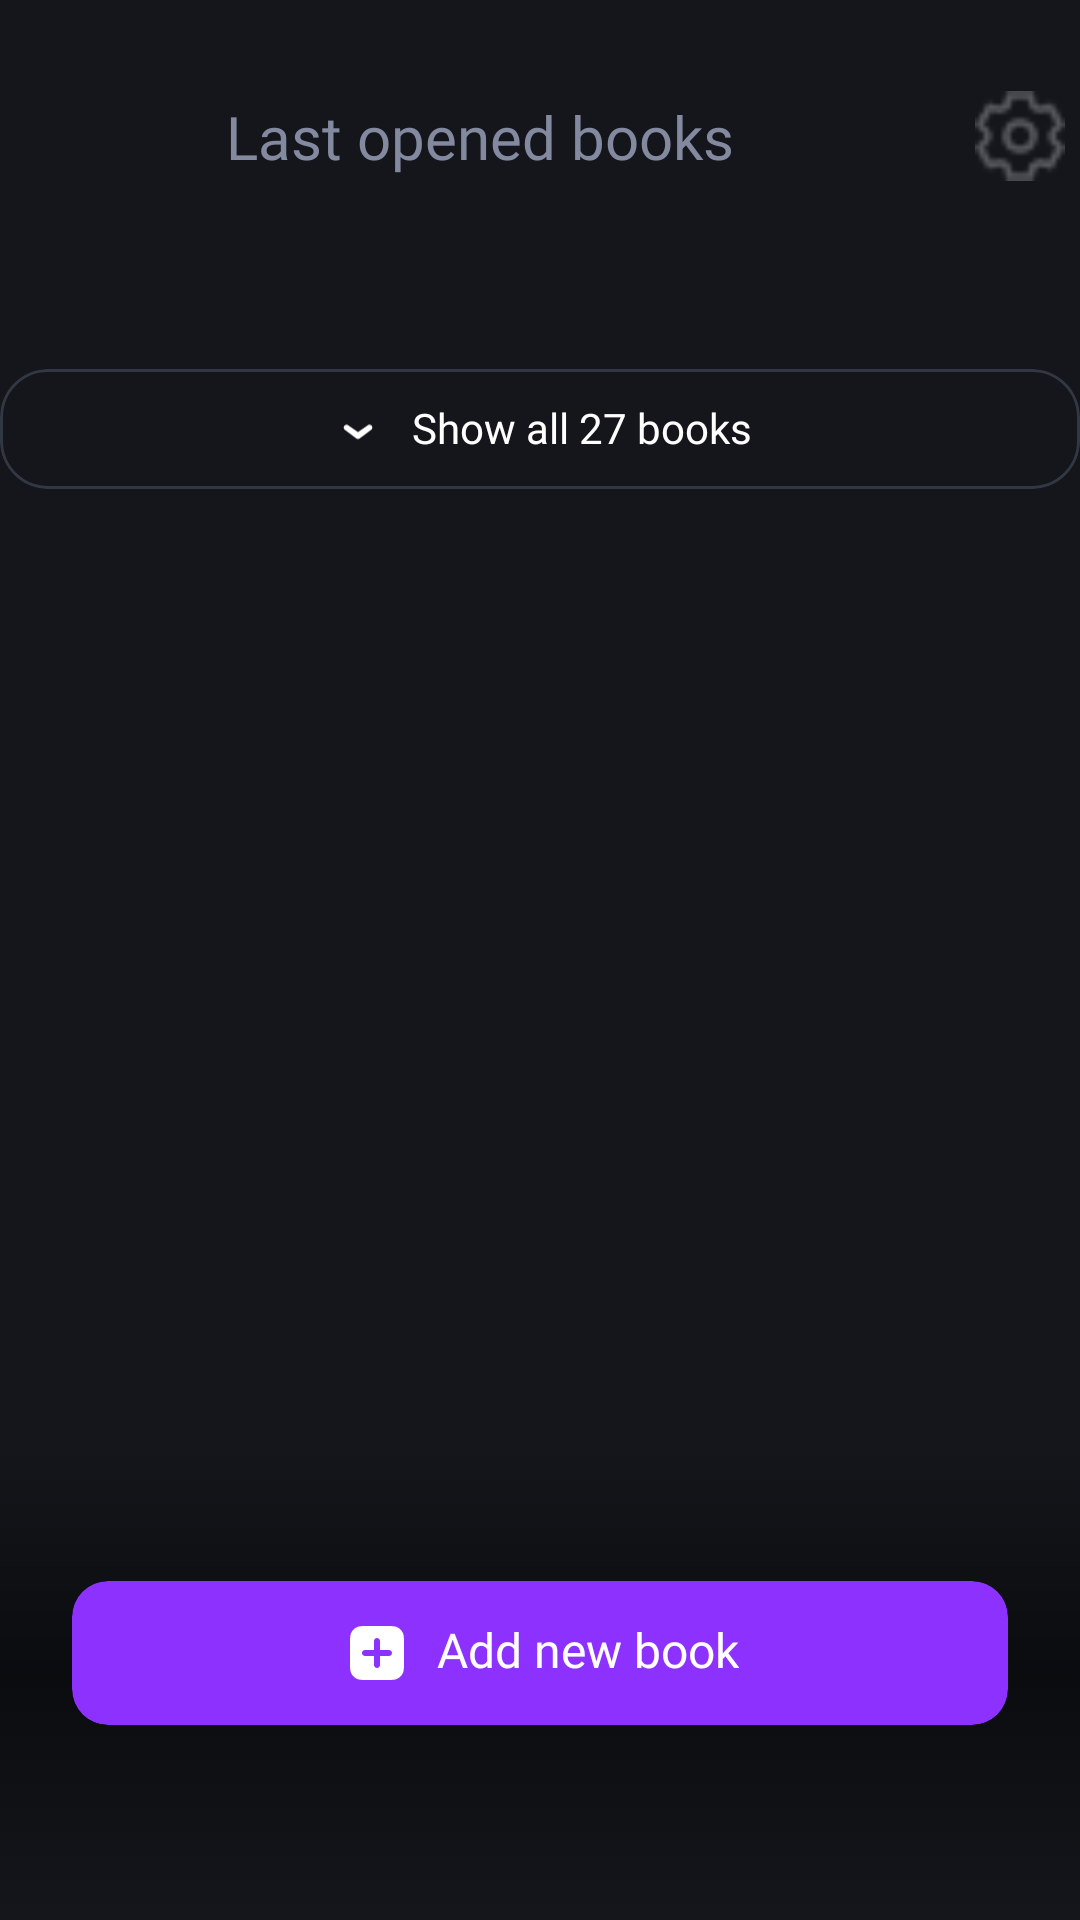

Named icons in this screenshot (1080px x 1920px) and their centers, [x,y]:
arrow down: [358,432]
plus: [377,1653]
settings: [1020,136]
